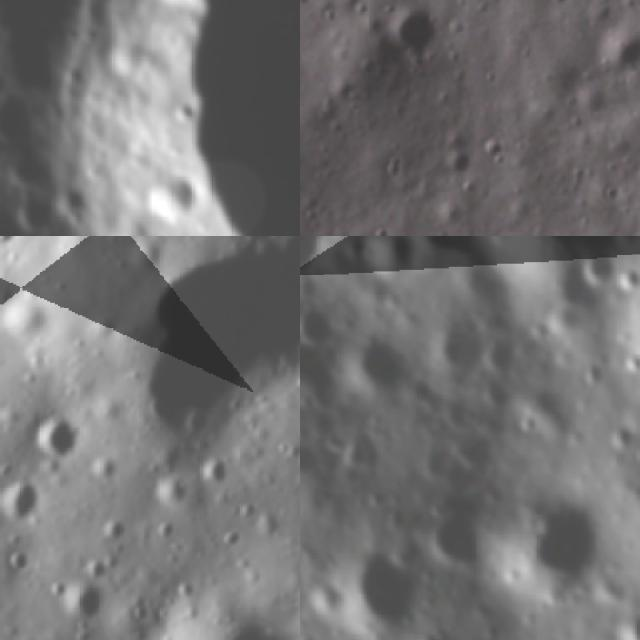crater: (37, 0, 300, 236), (78, 236, 300, 485), (148, 561, 285, 640), (508, 497, 616, 590), (328, 550, 433, 633), (498, 236, 640, 282), (18, 395, 98, 475), (49, 562, 122, 636), (416, 505, 494, 573), (427, 298, 498, 372), (0, 452, 57, 532), (375, 236, 495, 274), (346, 331, 416, 396), (142, 462, 205, 524), (384, 5, 444, 64), (192, 444, 245, 497), (578, 247, 627, 303), (0, 84, 40, 151), (363, 236, 426, 278), (300, 299, 345, 355), (114, 236, 170, 277), (595, 25, 640, 74), (246, 501, 292, 546), (0, 535, 43, 581), (84, 448, 126, 492), (94, 508, 136, 550), (147, 508, 189, 548), (216, 522, 256, 561), (300, 432, 329, 483), (124, 592, 160, 628), (441, 148, 475, 181), (478, 130, 506, 162), (614, 608, 640, 640), (286, 432, 300, 489), (0, 236, 26, 256), (543, 0, 575, 11)
